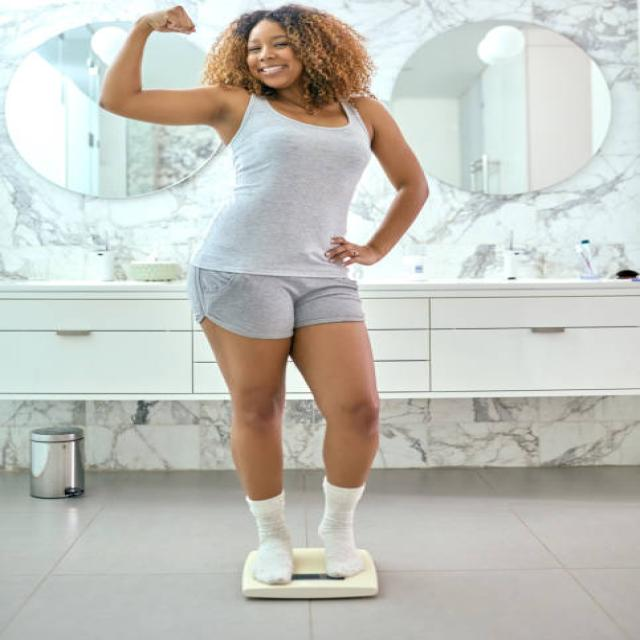Real human 2: (91, 0, 466, 614)
